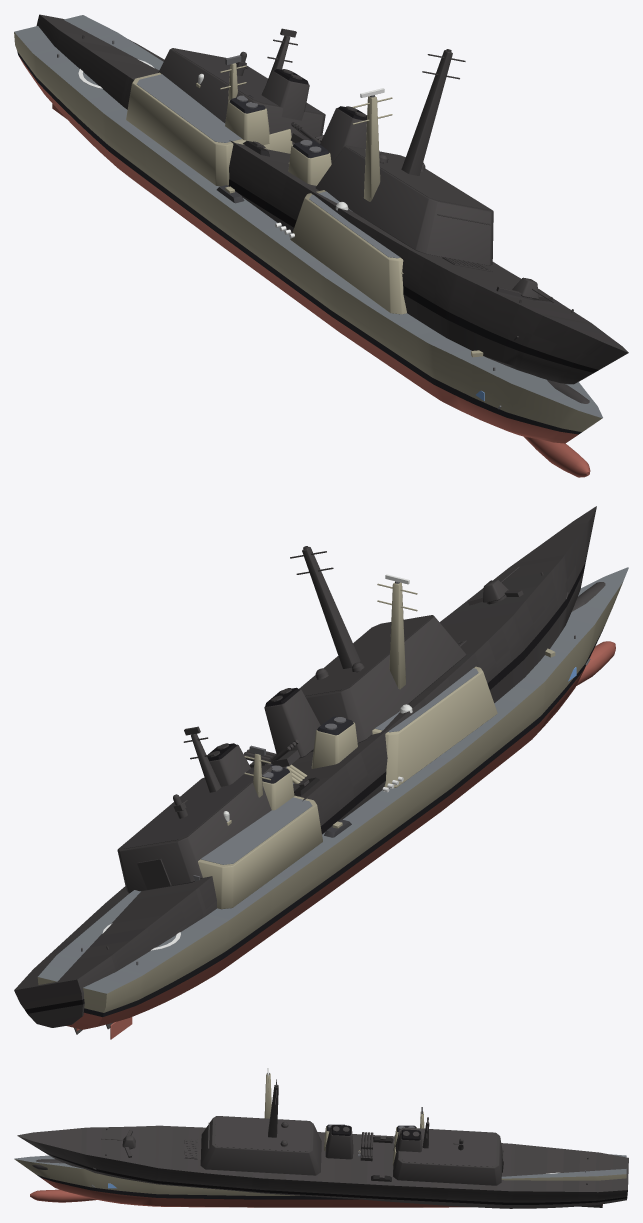
Rendered from destroyer__takanami_class.glb.
The picture shows the model from 3 angles, top to bottom: view 1: azimuth 30°, elevation 25°; view 2: azimuth 150°, elevation 25°; view 3: azimuth 270°, elevation 25°; orthographic projection. The views are drawn at different scales.
Visible parts, largest first — view 1: Hull_Mesh, Wreck; view 2: Wreck, Hull_Mesh; view 3: Wreck, Hull_Mesh.
Part boxes in pixels (left/top/right/bottom): Hull_Mesh: left=14, top=15, right=602, bottom=477; Wreck: left=36, top=14, right=628, bottom=403; Wreck: left=14, top=506, right=605, bottom=1034; Hull_Mesh: left=37, top=567, right=628, bottom=1039; Wreck: left=17, top=1079, right=628, bottom=1208; Hull_Mesh: left=14, top=1073, right=626, bottom=1207.
Size of what is drawn, in the model's own units: 25.07 by 39.98 by 158.
